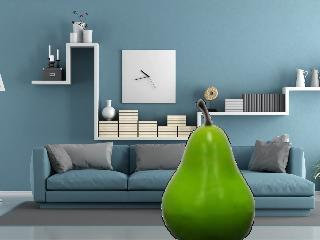pear: (162, 100, 255, 240)
